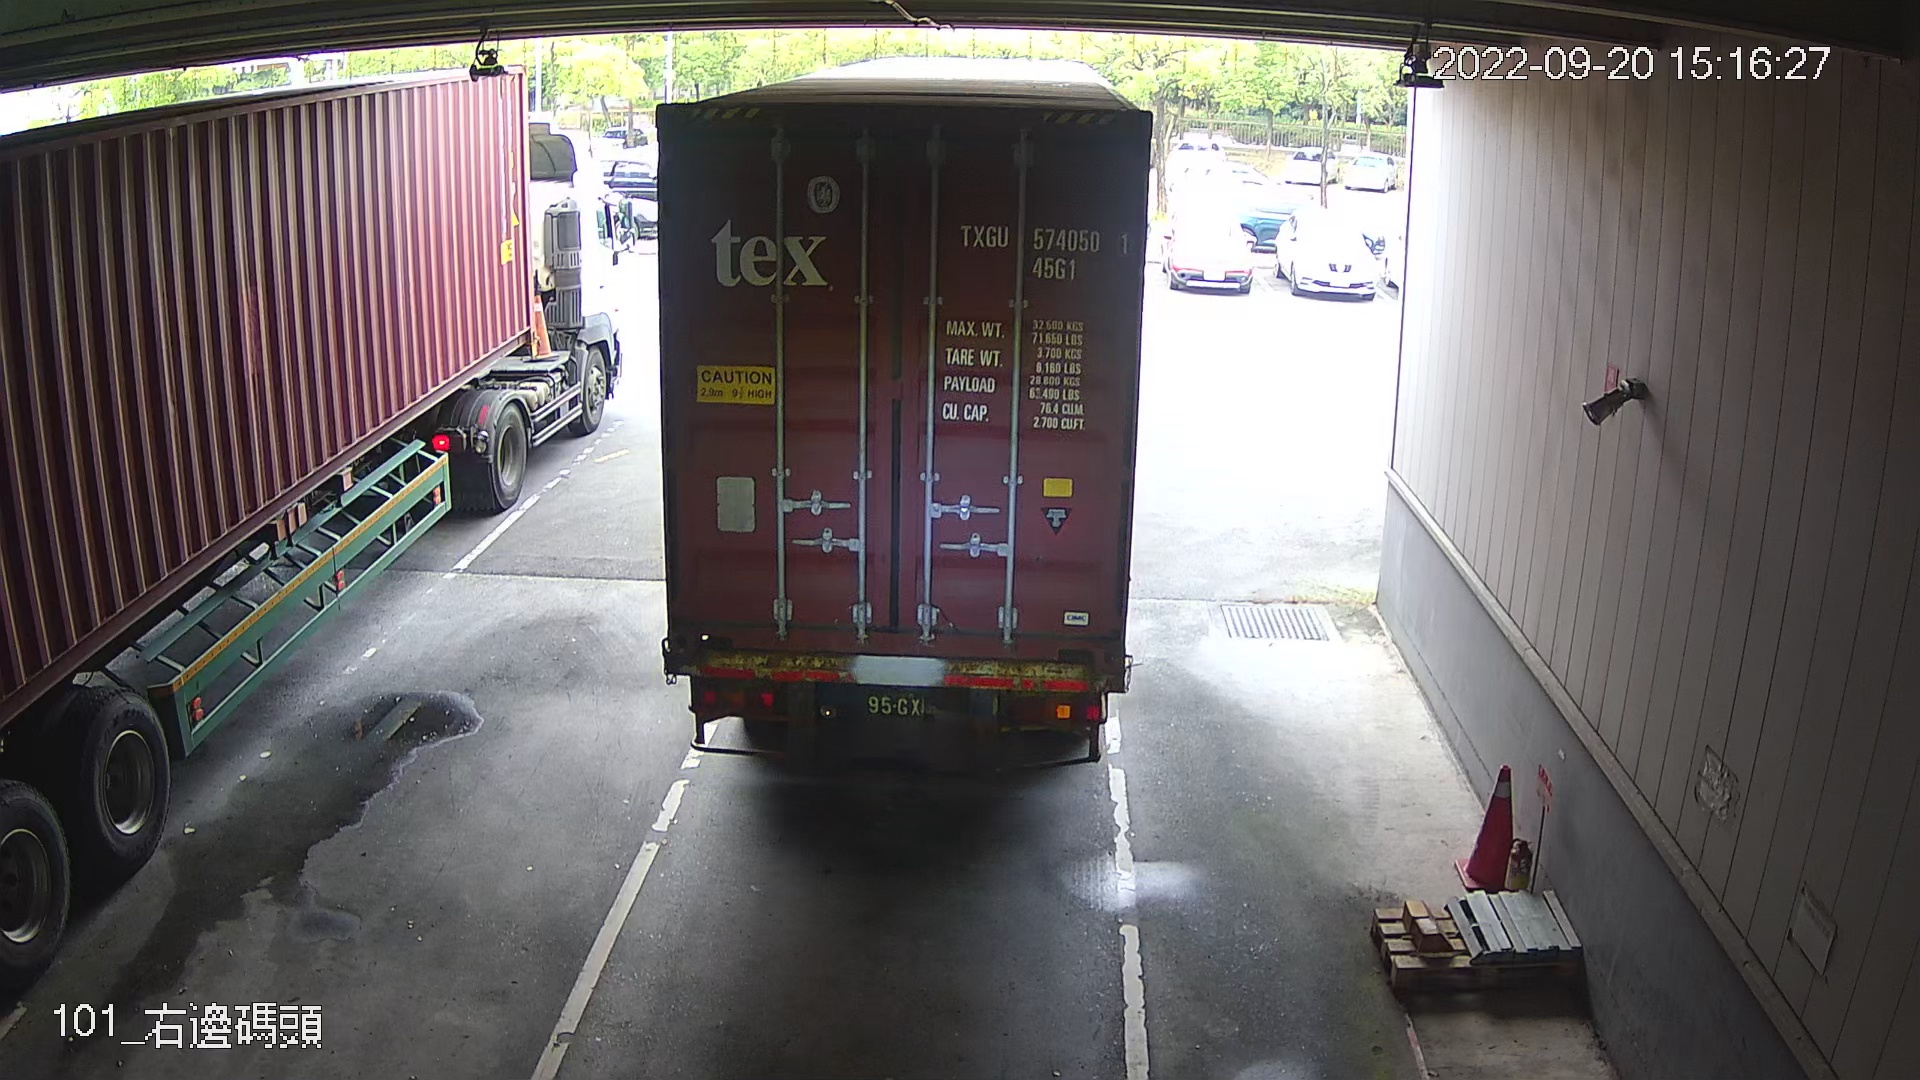container: (949, 218, 1135, 291)
